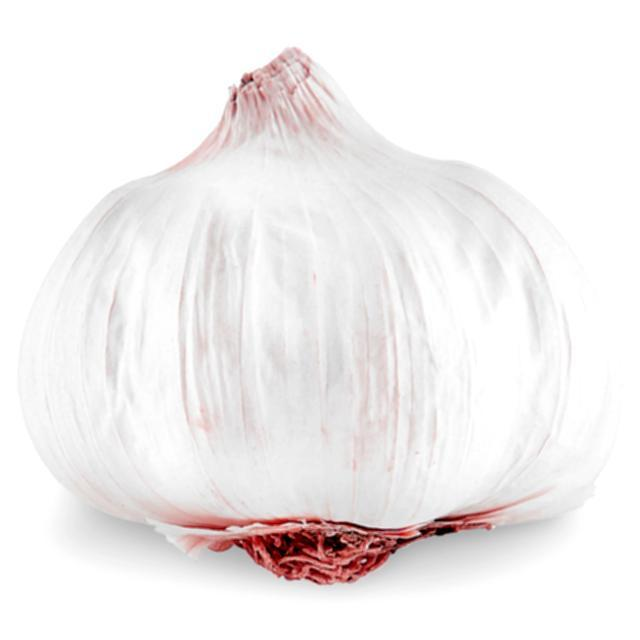garlic: (20, 49, 611, 583)
